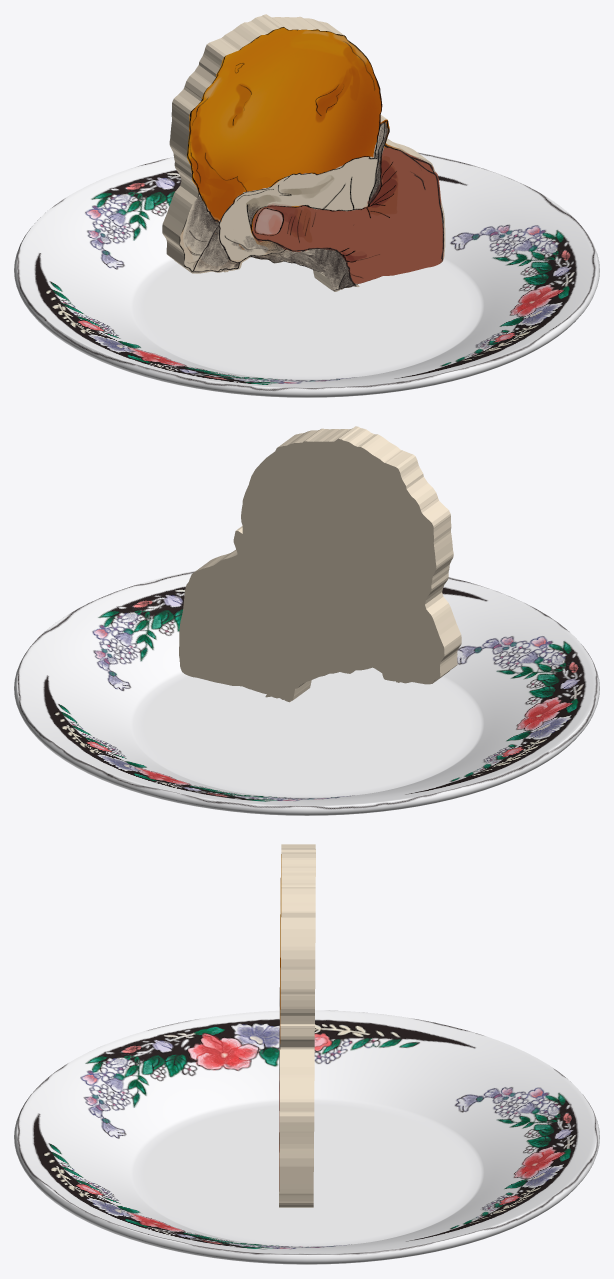
Rendered from Plato Arepa de huevo.glb.
3 renders of one model, top to bottom at view 1: azimuth 30°, elevation 25°; view 2: azimuth 150°, elevation 25°; view 3: azimuth 270°, elevation 25°, orthographic.
Parts seen in each view (by area): view 1: Plato.001, Arepa de huevo; view 2: Plato.001, Arepa de huevo; view 3: Plato.001, Arepa de huevo.
Boxes of the visible parts, x1=… form: Plato.001: x1=14, y1=152, x2=599, y2=397; Arepa de huevo: x1=162, y1=14, x2=445, y2=291; Plato.001: x1=14, y1=570, x2=599, y2=815; Arepa de huevo: x1=179, y1=426, x2=461, y2=702; Plato.001: x1=14, y1=1010, x2=599, y2=1264; Arepa de huevo: x1=279, y1=844, x2=315, y2=1207.
Size of the model in its own units: 20.49 by 11.88 by 20.49.
Materials: 2 (2 with a texture image).
